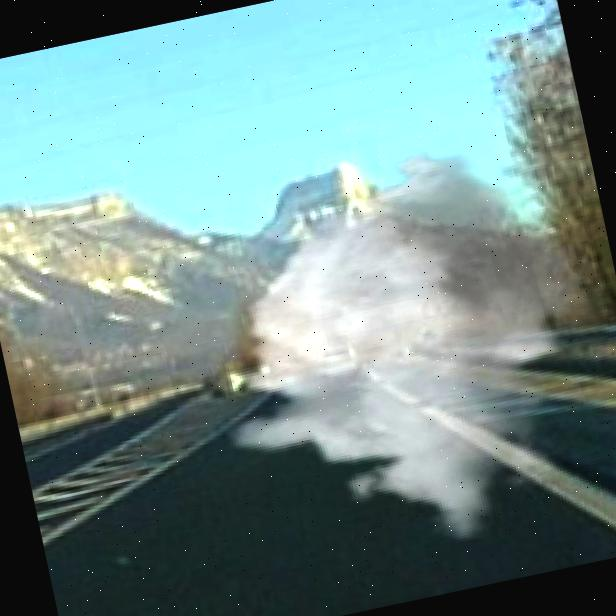smoke: (173, 118, 616, 586)
